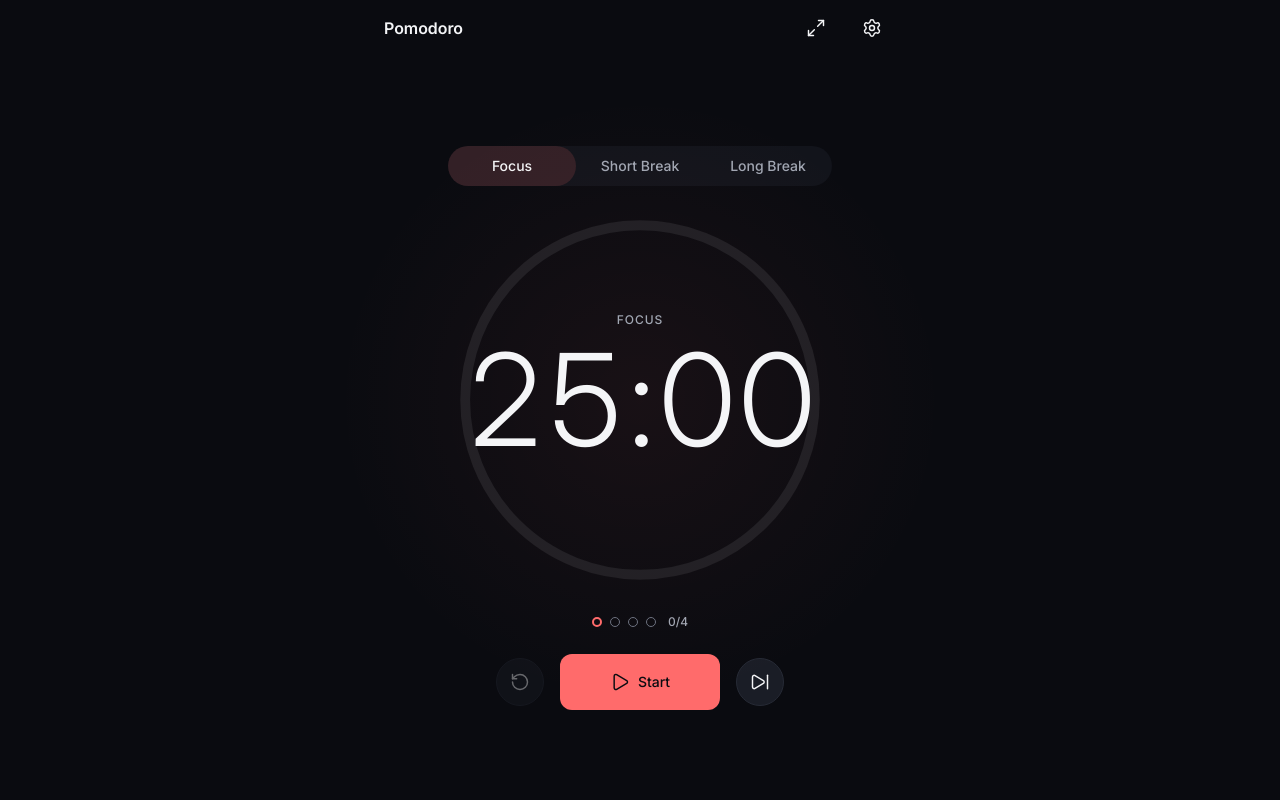
it: SettingsSheet (POMO-AC11-POMO-AC13, POMO-AC24, POMO-AC26) › rejects 1.5 in Focus on Save: error shown, nothing written
The width and height of the screenshot is (1280, 800).
Click the button named "Open settings".
click(872, 28)  # box [848, 4, 896, 52]
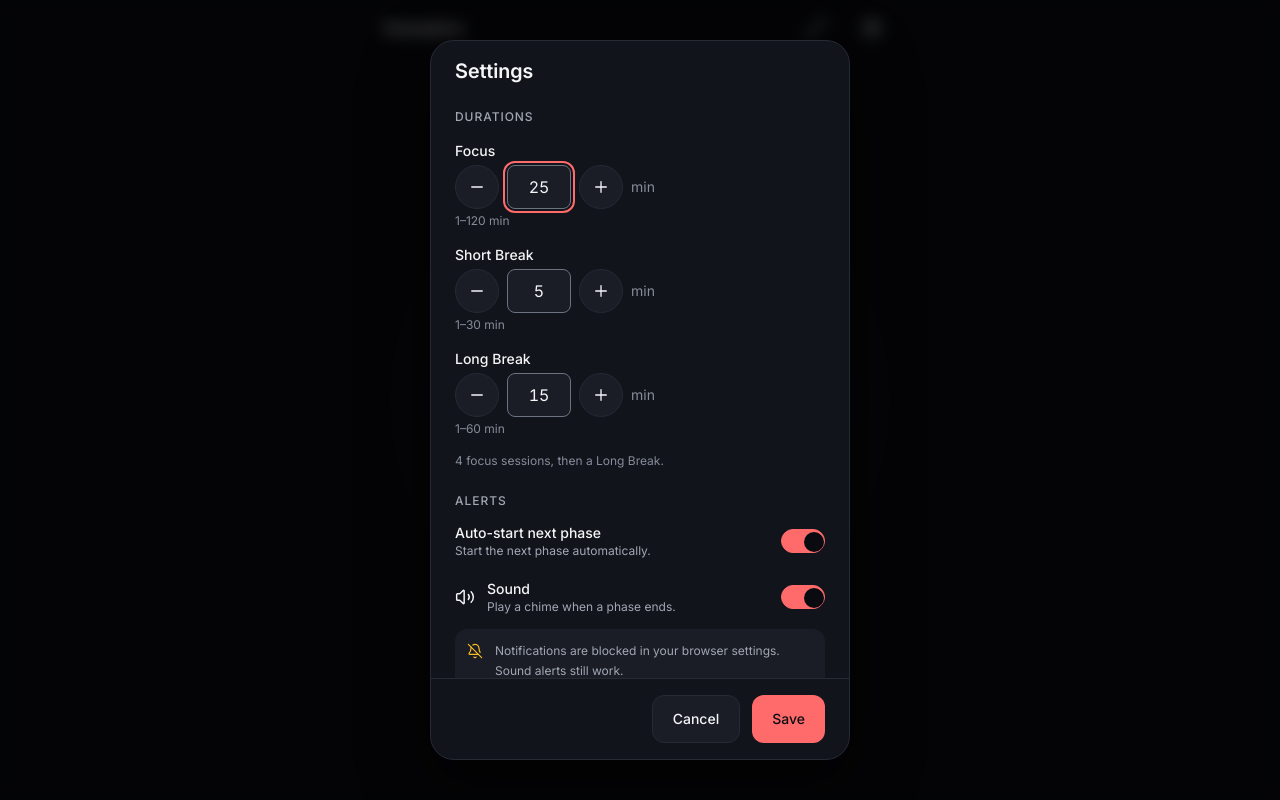
Replace the text in the field labelled "Focus" with "1.5" at point(539, 187), box [507, 165, 571, 209]
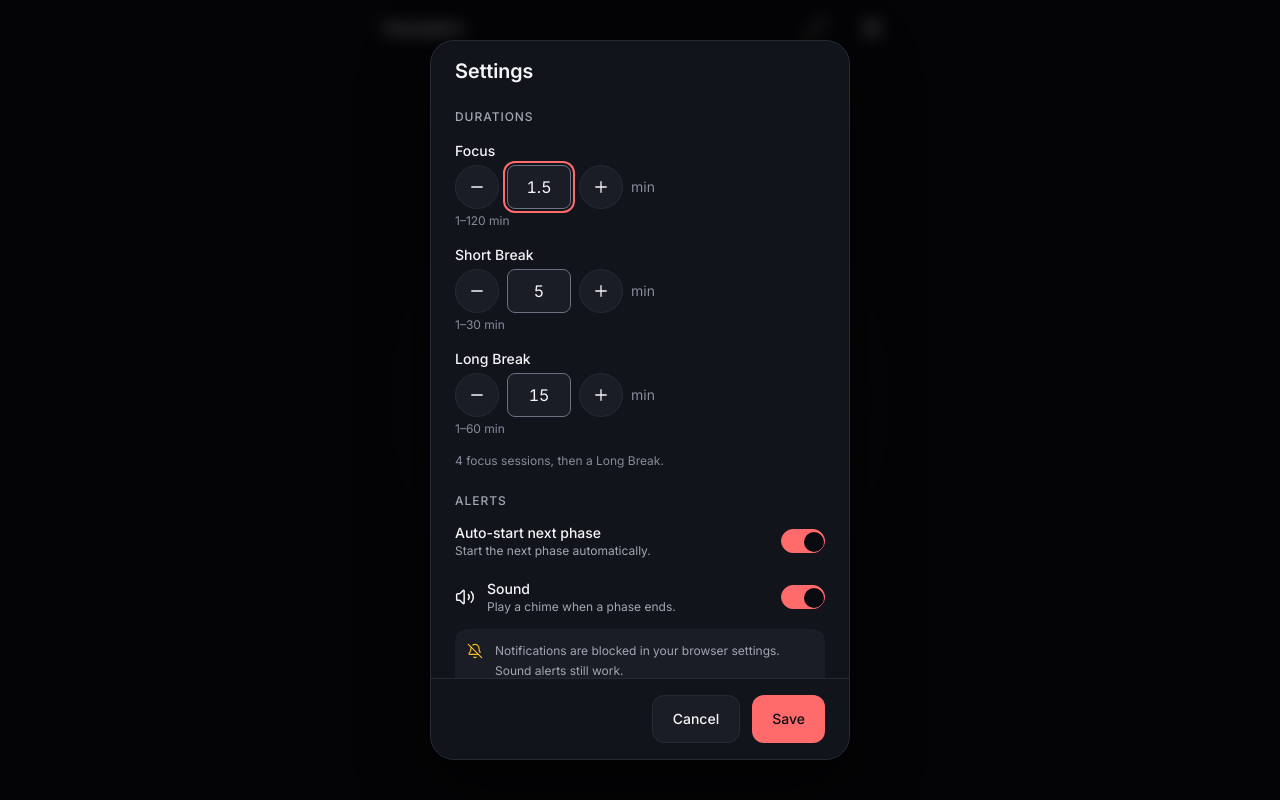
Click the button "Save".
click(789, 719)  # box [752, 695, 825, 743]
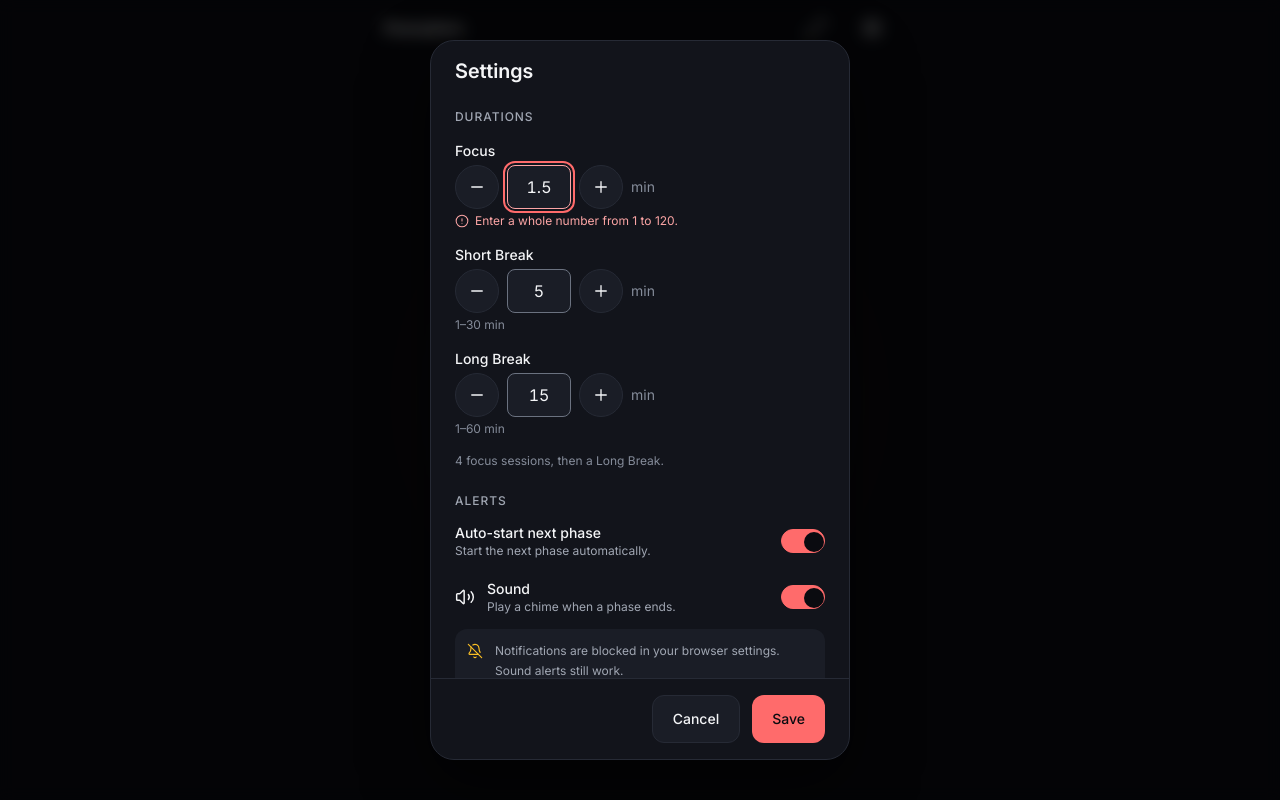
Expected: the text "25:00" is shown, [464, 336, 816, 464]
Now the dialog is shown, box [430, 40, 850, 760]
Now the text "Enter a whole number from 1 to 120." is shown, box [455, 213, 678, 228]
